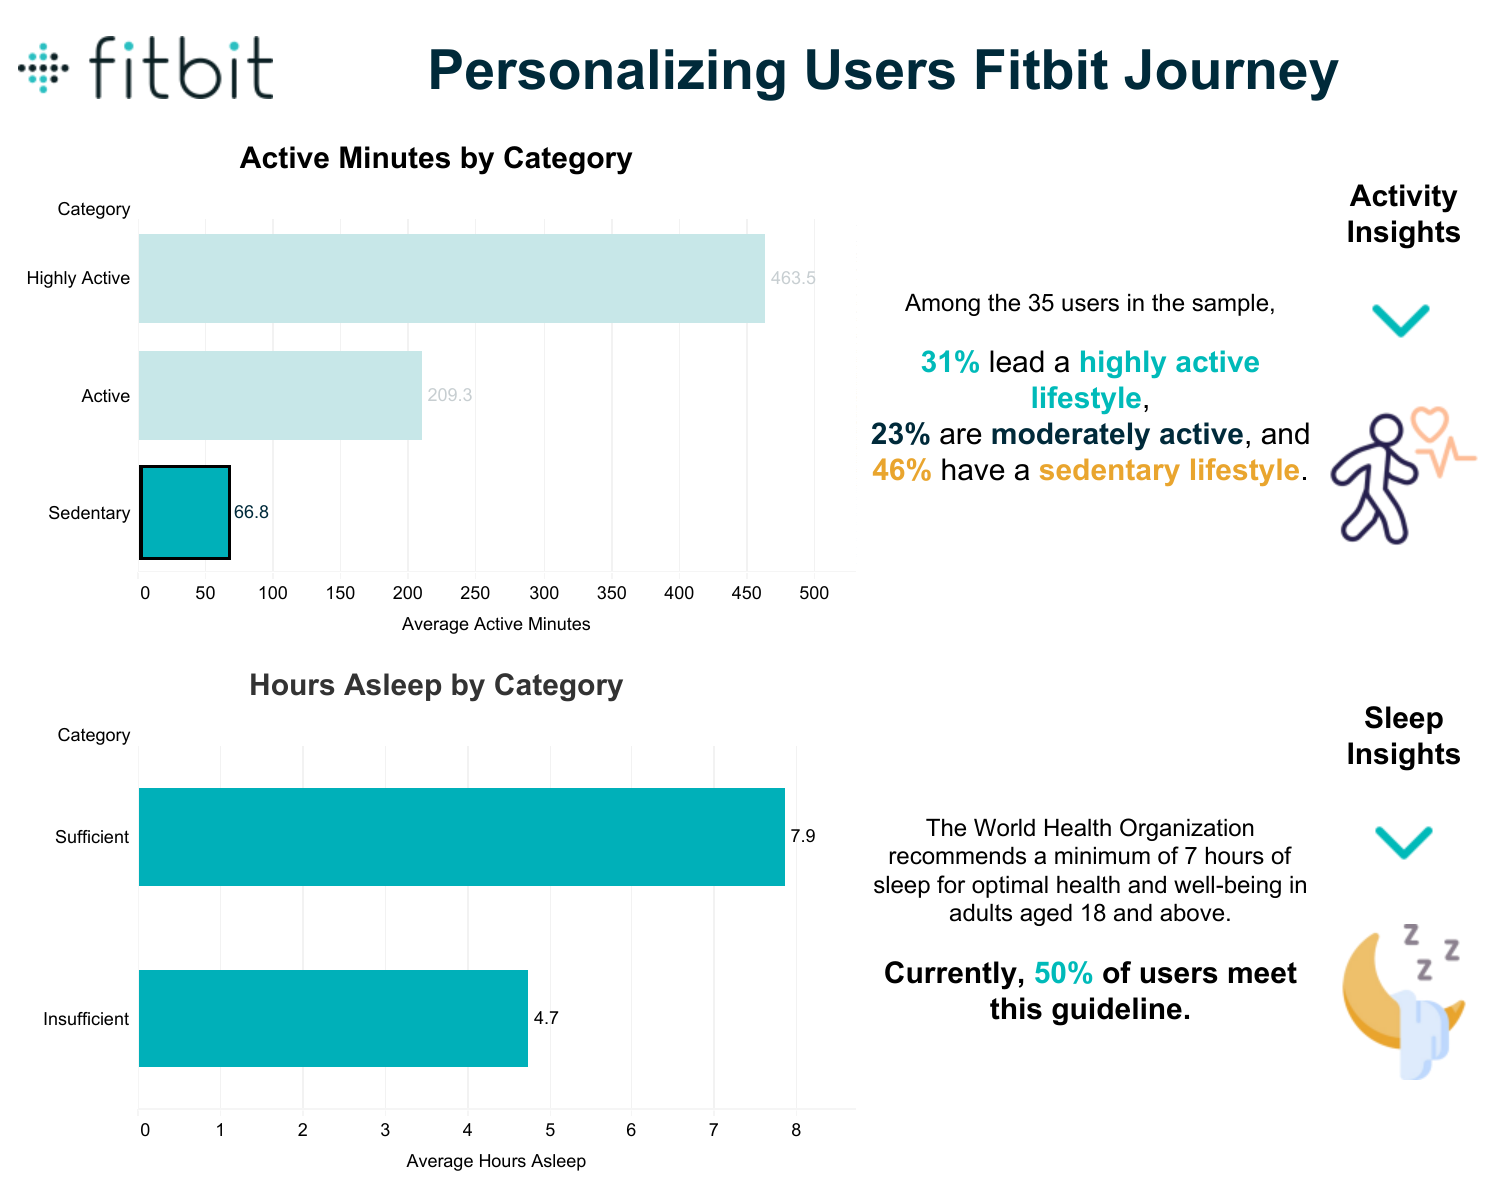

The dashboard page shown, as its layout file describes it:
{"tool":"tableau","page":{"name":"HomePage","canvas":[1000,800],"ordinal":1},"visuals":[{"type":"image","param":"Image/Fitbit_logo.svg.png","box":[8,8,178,75]},{"type":"text","box":[186,8,806,75]},{"type":"worksheet","title":"Avg Min per activity group","mark":"Automatic","rows":["ActivityCategory"],"cols":["AverageActiveMinutes"],"box":[8,83,566,351.5]},{"type":"text","box":[574,83,306,351.5]},{"type":"text","box":[880,83,112,117]},{"type":"image","param":"Image/down_arrow-removebg-preview 1.png","box":[912,193,41,38]},{"type":"image","param":"Image/down_arrow-removebg-preview 2.png","box":[915,195,41,38]},{"type":"dashboard-object","box":[880,200,112,234]},{"type":"text","box":[880,434,112,111]},{"type":"worksheet","title":"Enough Sleep","mark":"Bar","rows":["SleepCategory"],"cols":["AverageHoursAsleep"],"box":[8,434.5,566,357.5]},{"type":"text","box":[574,434.5,306,357.5]},{"type":"image","param":"Image/down_arrow-removebg-preview.png","box":[917,543,41,38]},{"type":"dashboard-object","box":[880,545,112,247]}]}

Visuals, with their boxes in screenshot pixels (x1, y1, x2, y2), scaled from the page's 1000x800 canvas onto the 1499x1199 screenshot:
image: rect(12, 12, 279, 124)
text: rect(279, 12, 1487, 124)
"Avg Min per activity group" worksheet: rect(12, 124, 860, 651)
text: rect(860, 124, 1319, 651)
text: rect(1319, 124, 1487, 300)
image: rect(1367, 289, 1429, 346)
image: rect(1372, 292, 1433, 349)
dashboard-object: rect(1319, 300, 1487, 650)
text: rect(1319, 650, 1487, 817)
"Enough Sleep" worksheet (Bar marks): rect(12, 651, 860, 1187)
text: rect(860, 651, 1319, 1187)
image: rect(1375, 814, 1436, 871)
dashboard-object: rect(1319, 817, 1487, 1187)
